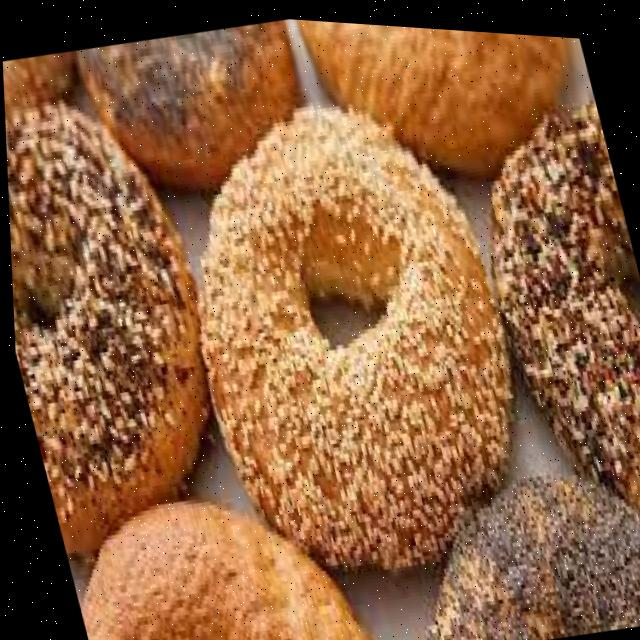Bagel: (196, 103, 505, 562), (4, 102, 205, 551), (490, 93, 640, 487), (75, 499, 364, 640), (417, 470, 640, 640)
